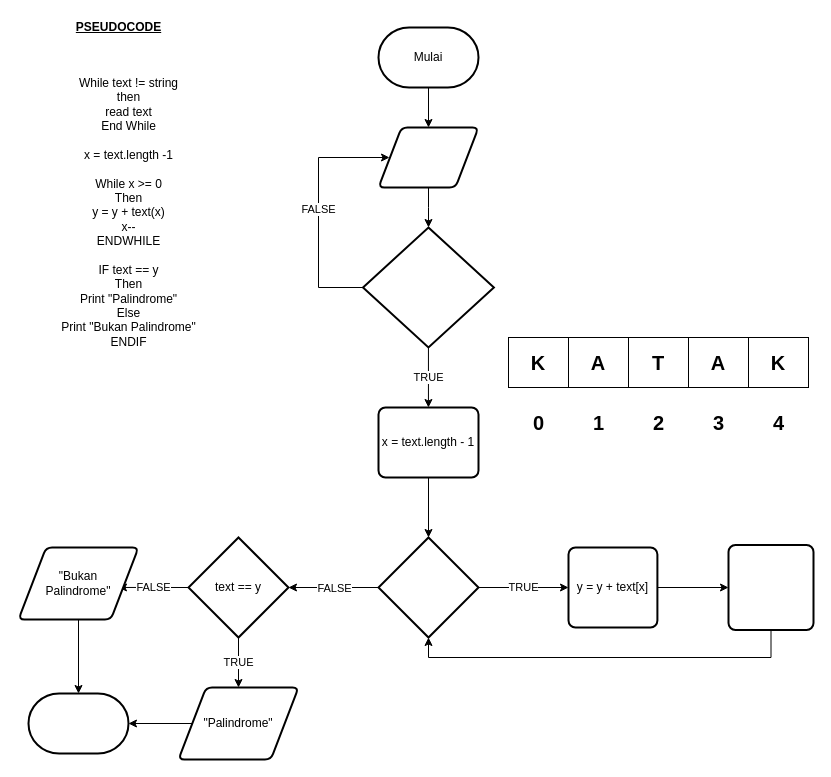
Some shapes in this 831 by 777 pixel diagram are drawn without their labels. The shapes that lost their labels are listed below. From the top down, each one's box as (x1, y1, x2, y2) in pixels, then its label:
(377, 126, 479, 188): text
(362, 226, 494, 348): text == string
(377, 536, 479, 638): x >= 0
(727, 544, 814, 630): x --
(27, 692, 129, 754): Selesai
